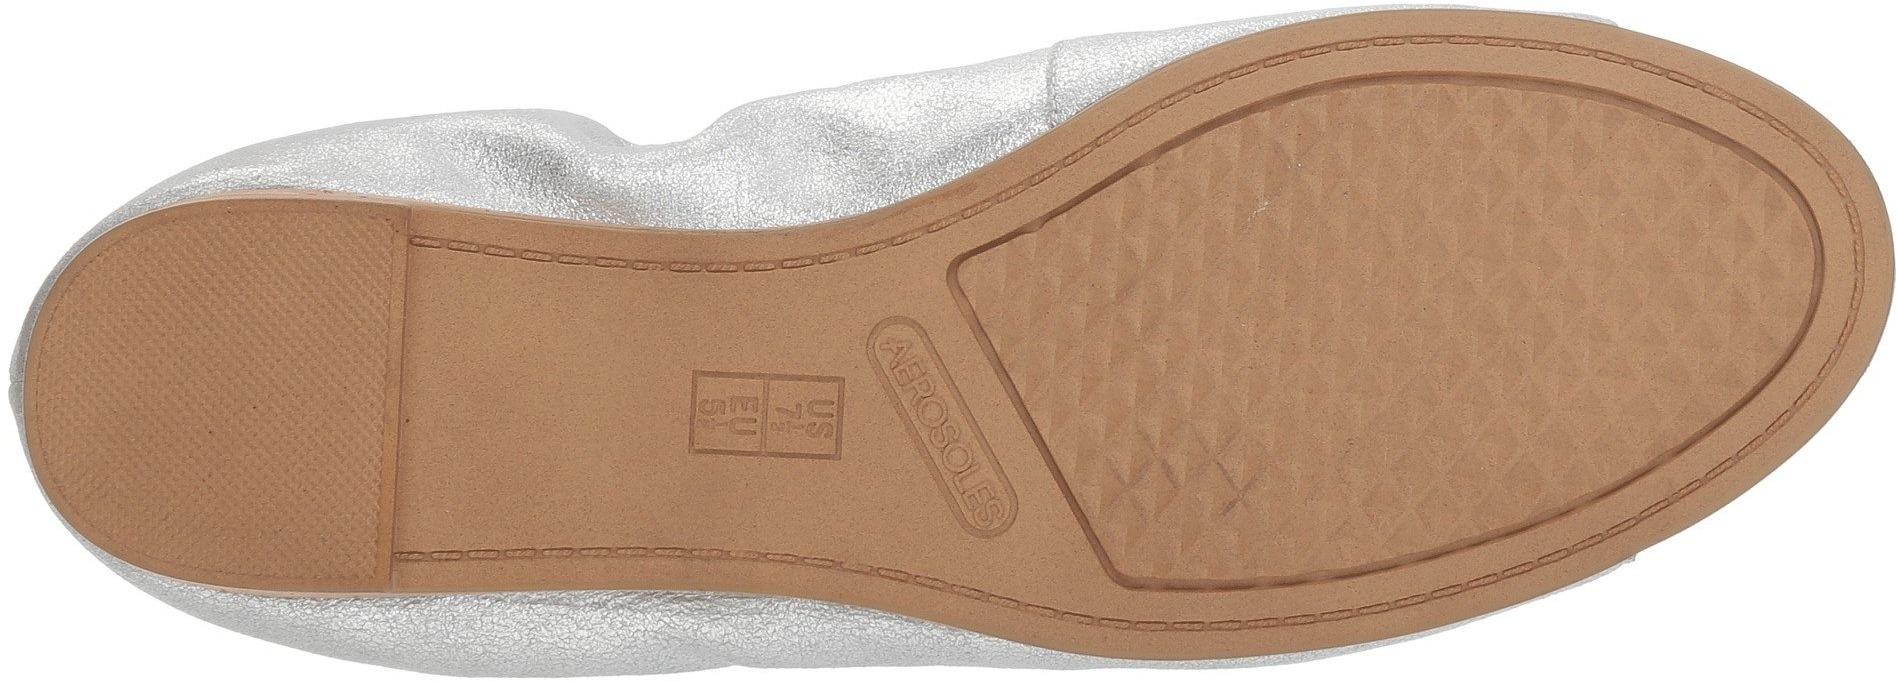exclude: (397, 171, 690, 636)
other: (84, 292, 274, 486), (265, 217, 392, 351), (727, 279, 827, 370)
quad: (1322, 104, 1584, 356), (1066, 227, 1310, 464), (1591, 174, 1779, 389), (1317, 358, 1517, 537)
text: (869, 334, 948, 422), (695, 377, 772, 454), (921, 429, 993, 500), (780, 383, 842, 454), (959, 503, 1010, 549)
